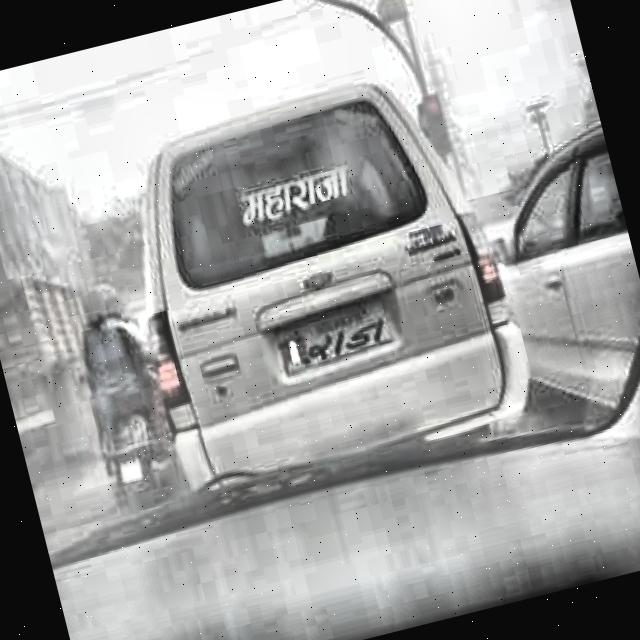license_plate: (272, 295, 402, 378)
